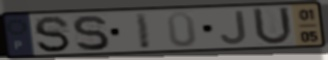0: (165, 11, 199, 49)
I: (133, 11, 153, 51)
J: (218, 9, 249, 45)
S: (32, 14, 73, 54), (70, 13, 111, 52)
U: (251, 6, 295, 47)
